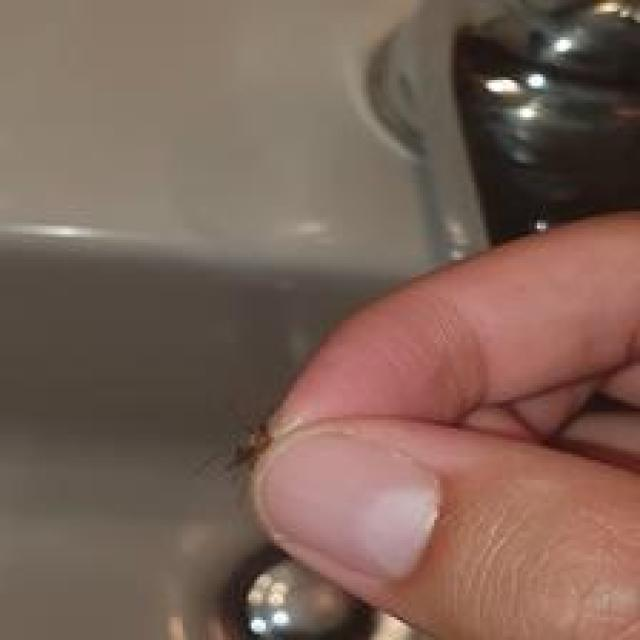Aedes albopictus: (363, 0, 640, 260)
